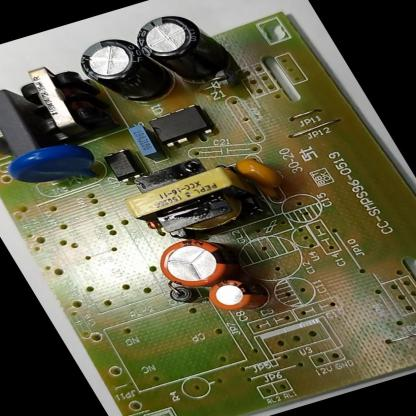Cap1: (146, 228, 246, 295)
Cap2: (201, 272, 273, 319)
Cap3: (67, 30, 167, 112)
Cap4: (124, 4, 236, 91)
MOSFET: (143, 102, 217, 150)
Mov: (0, 136, 105, 198)
Resistor: (0, 127, 15, 167)
Transformer: (110, 150, 262, 252), (6, 58, 110, 142)
